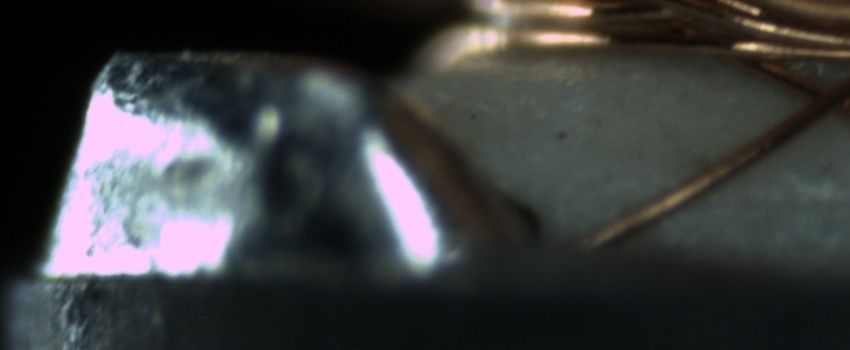CL: (787, 72, 846, 126)
DL: (683, 170, 849, 234)
